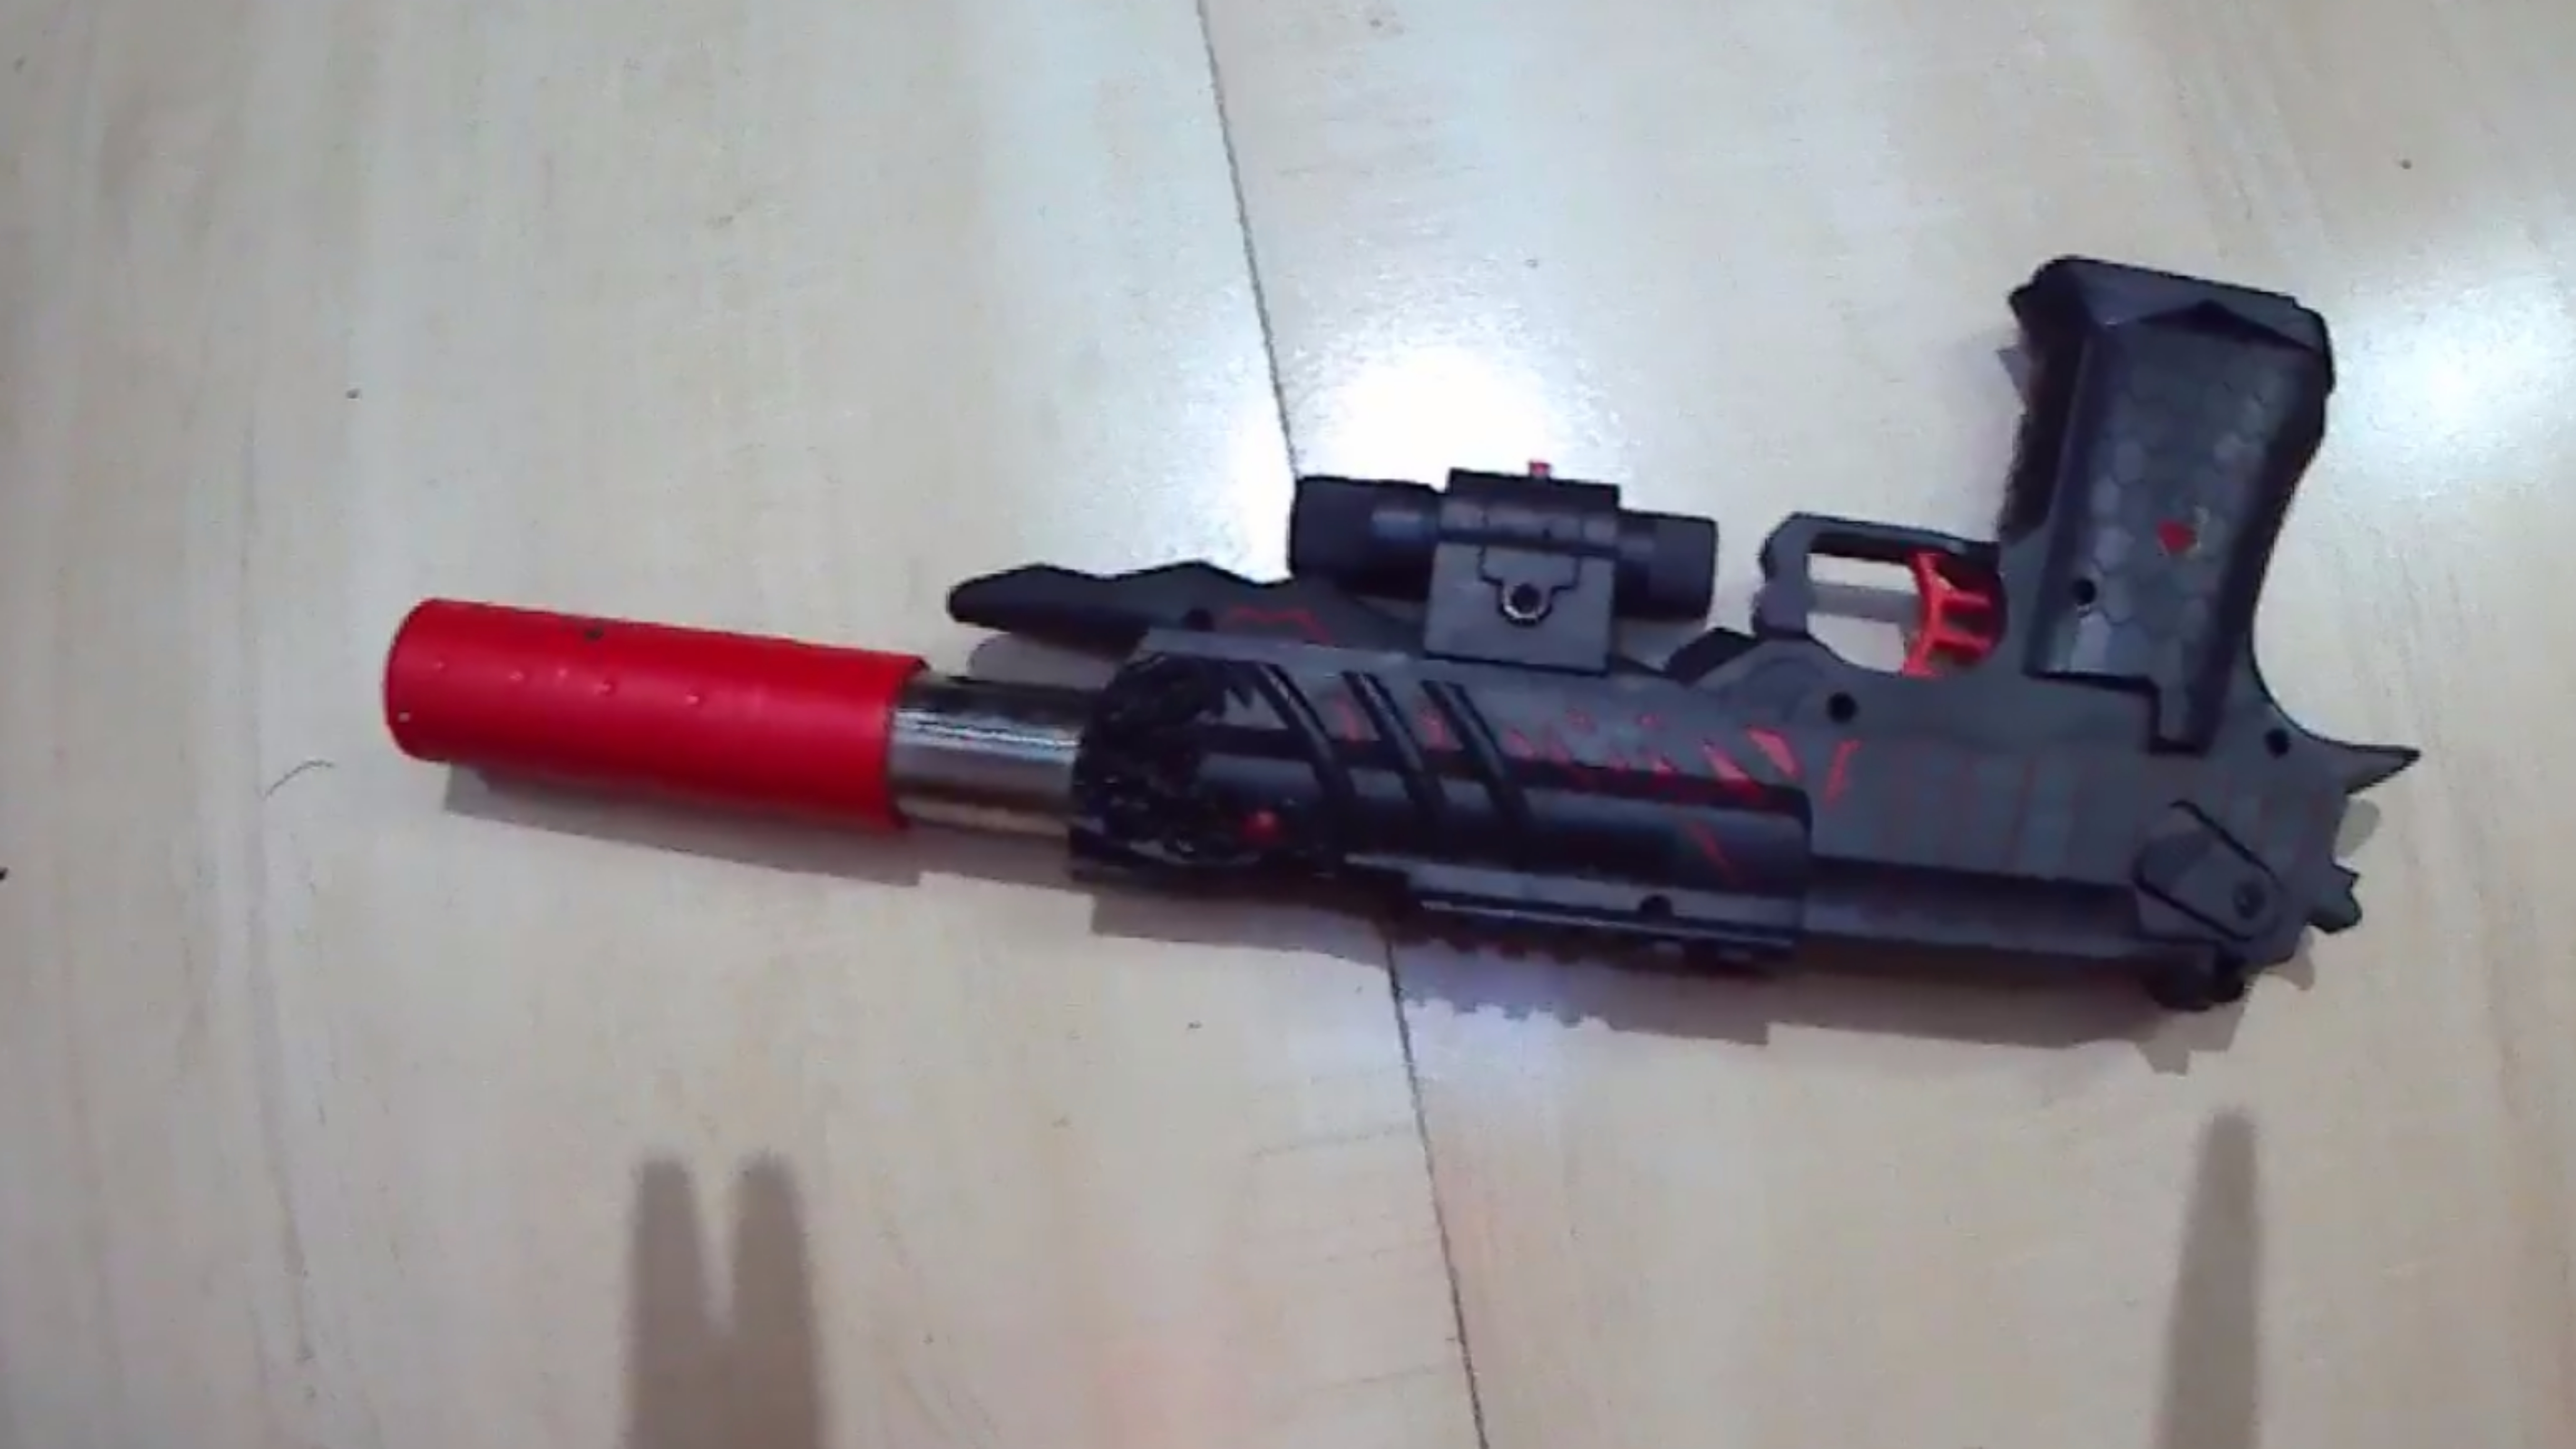handgun: (329, 280, 2362, 1054)
